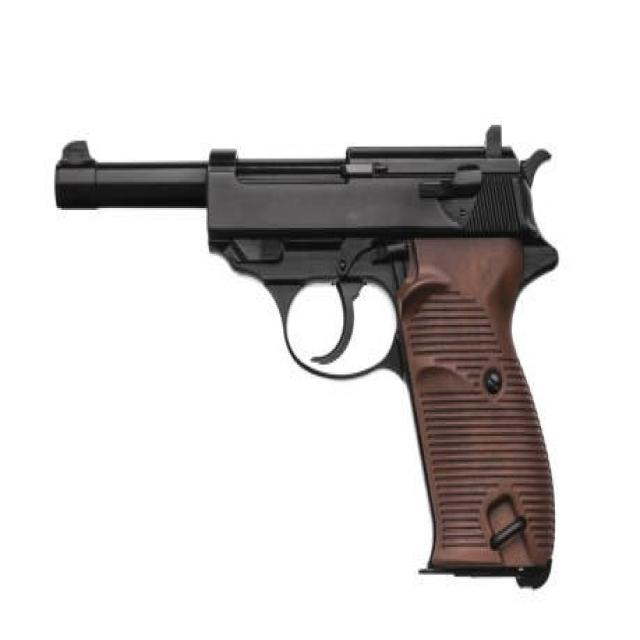pistol: (42, 125, 578, 595)
